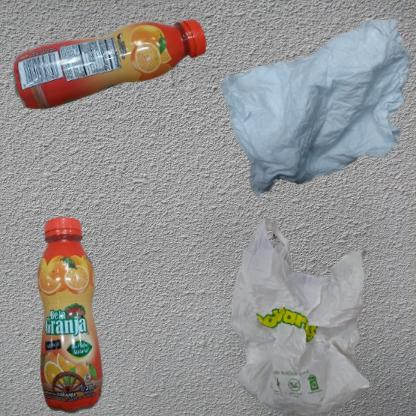bolsa: (213, 213, 404, 416)
botella: (10, 213, 146, 416), (10, 10, 213, 120)
papel: (213, 10, 416, 213)
